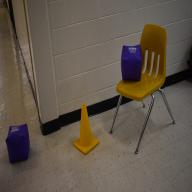cone: (73, 103, 100, 155)
cube: (5, 123, 31, 164), (120, 44, 143, 82)
